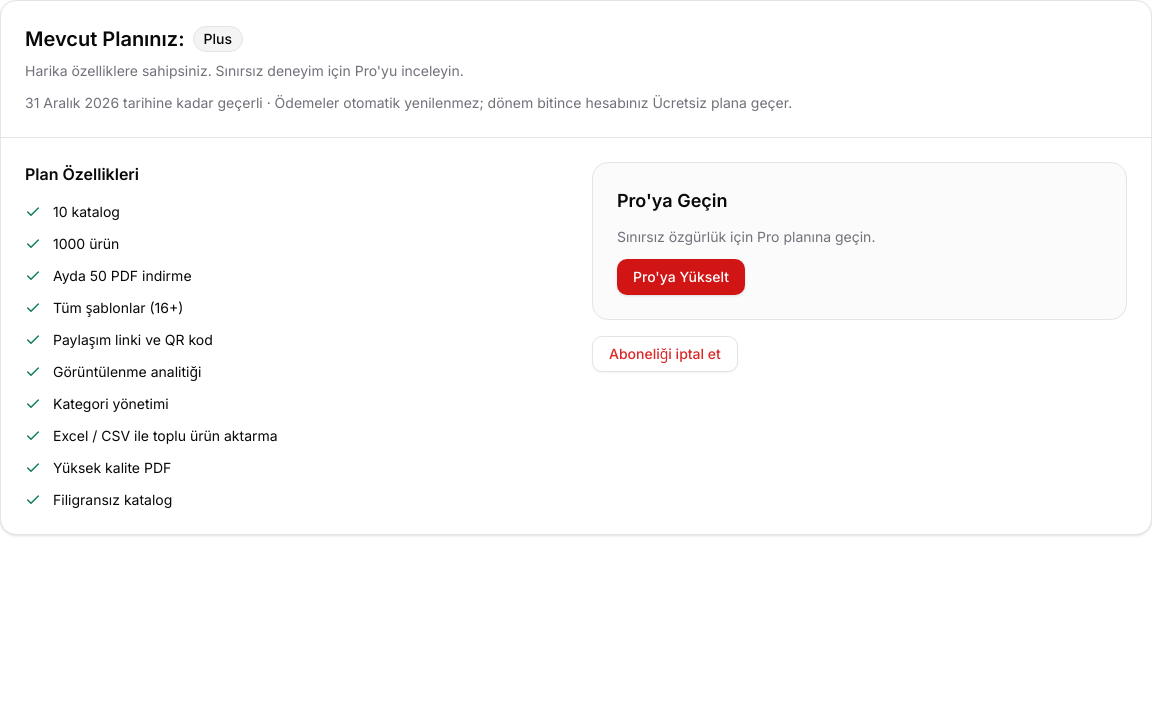
Test: Ayarlar > Abonelik iptali › ücretli planda onay sonrası aboneliği iptal eder ve kullanıcıyı yeniler
The image size is (1152, 720).
Later steps or results of the test are not shown.
Click the button "Aboneliği iptal et" at [665, 354], box [592, 336, 738, 372]
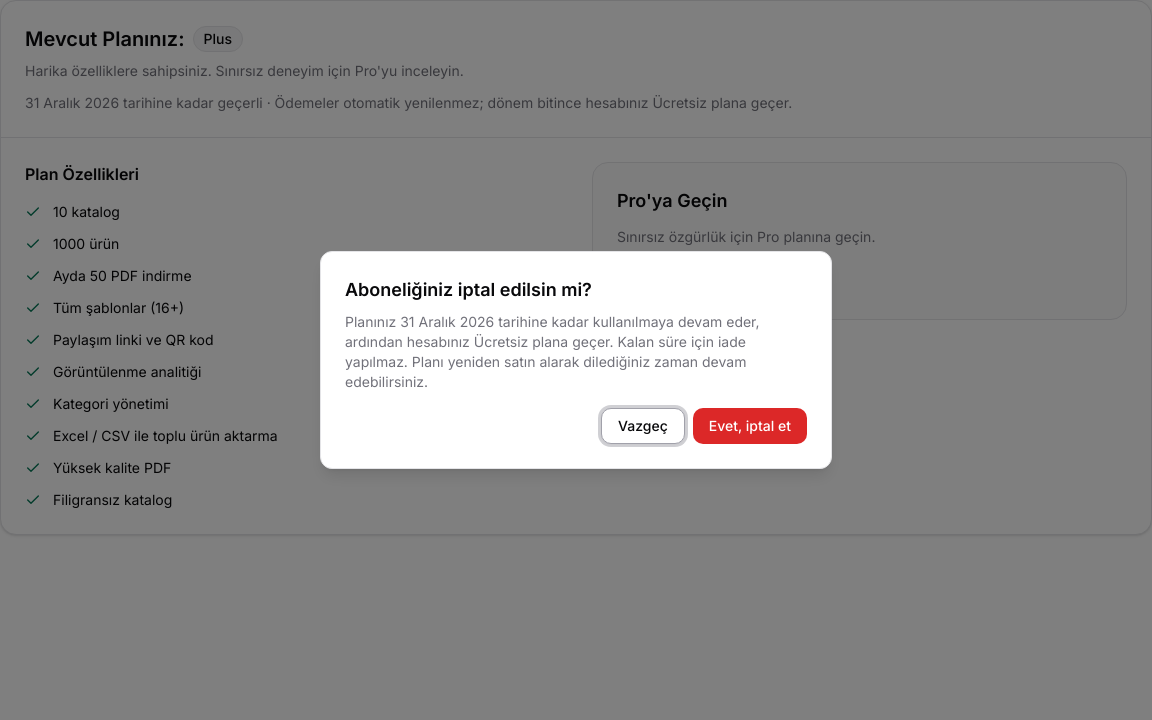
Expected: the text "tarihine kadar kullanılmaya devam eder" is shown, [345, 313, 760, 390]
